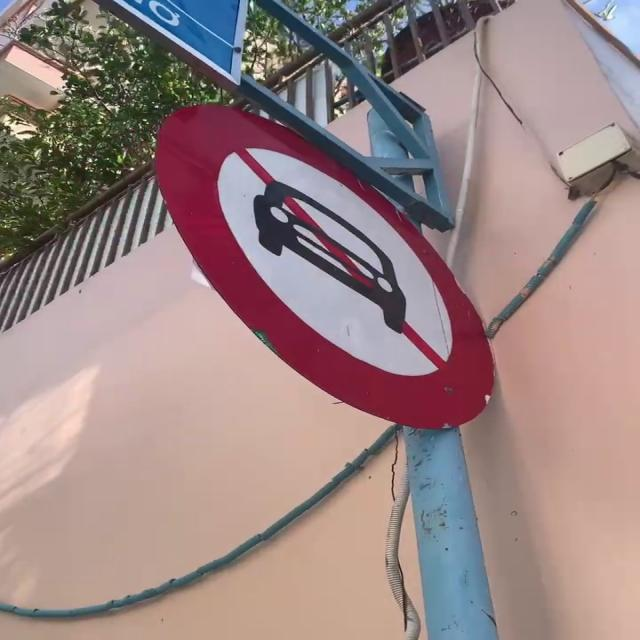Cam_O_To: (155, 100, 499, 433)
